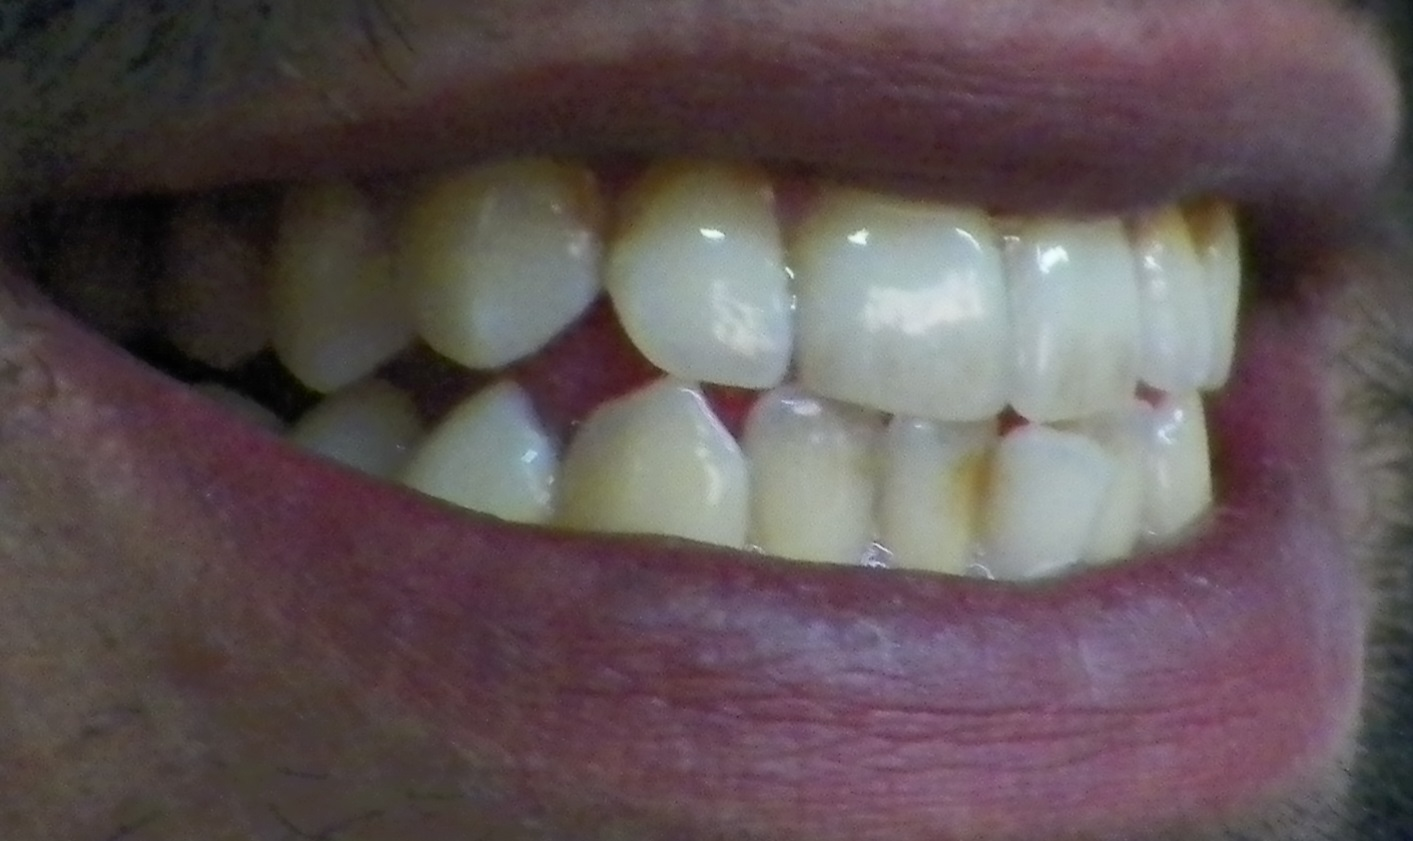boca: (82, 213, 1257, 574)
